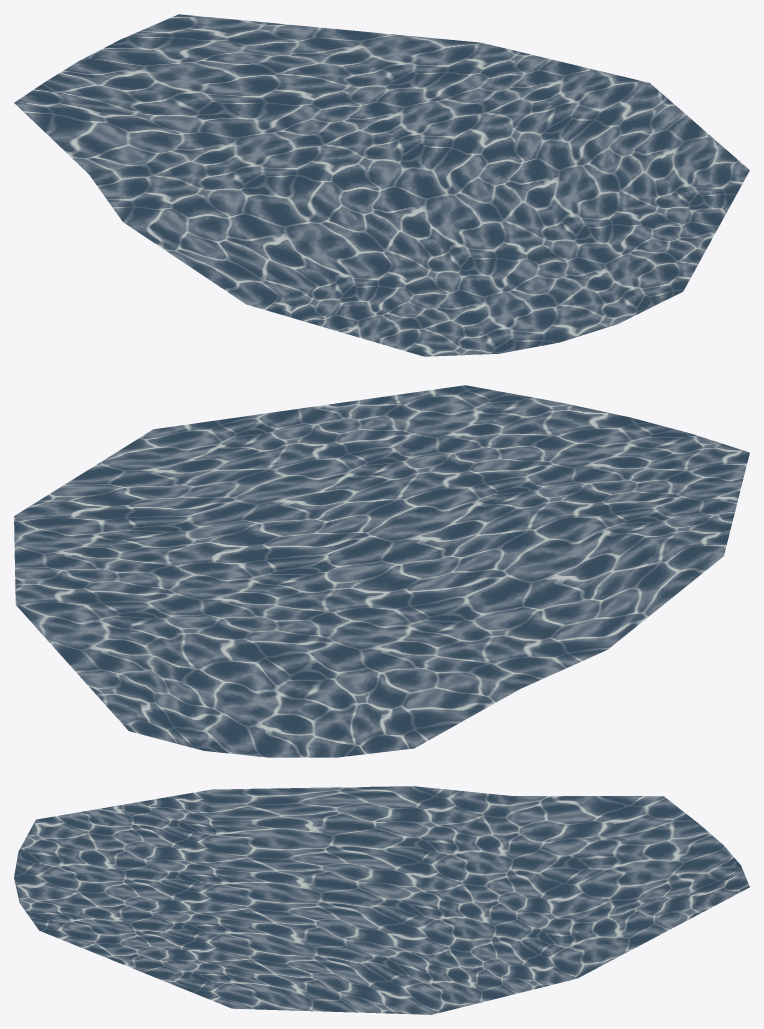
The model's file is Agua.FBX.
The picture shows the model from 3 angles, top to bottom: view 1: azimuth 30°, elevation 25°; view 2: azimuth 150°, elevation 25°; view 3: azimuth 270°, elevation 25°; orthographic projection. The views are drawn at different scales.
Parts seen in each view (by area): view 1: Water2Enrique_z3; view 2: Water2Enrique_z3; view 3: Water2Enrique_z3.
Boxes of the visible parts, left/top/right/bottom form: Water2Enrique_z3: left=14, top=14, right=749, bottom=356; Water2Enrique_z3: left=14, top=385, right=749, bottom=757; Water2Enrique_z3: left=14, top=786, right=749, bottom=1014.
Size of the model in its own units: 29.54 by 0.4823 by 40.17.
